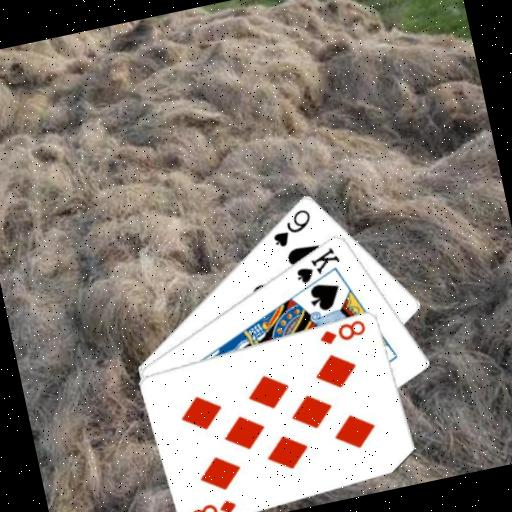8D: (314, 315, 368, 347), (185, 494, 239, 512)
9S: (265, 204, 317, 250)
KS: (288, 242, 345, 287)
